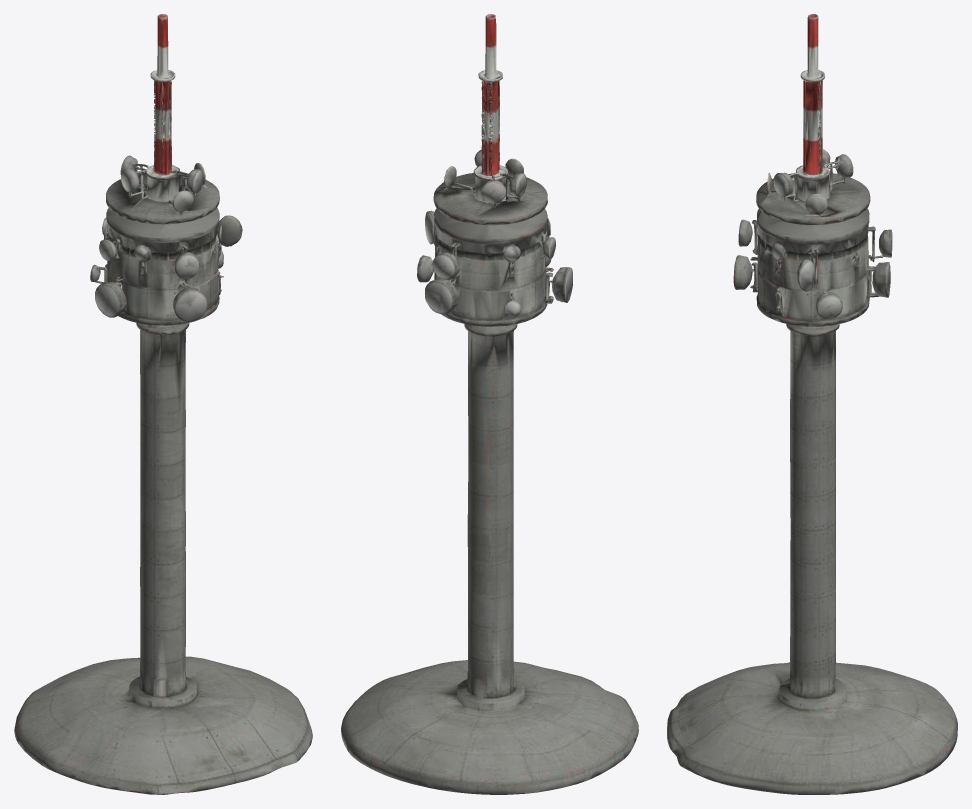
File: lukasrand.glb
The picture shows the model from 3 angles, left to right: view 1: azimuth 30°, elevation 25°; view 2: azimuth 150°, elevation 25°; view 3: azimuth 270°, elevation 25°; orthographic projection.
Size of the model in its own units: 0.707 by 1.9 by 0.6989.
1 material, 1 textured.
